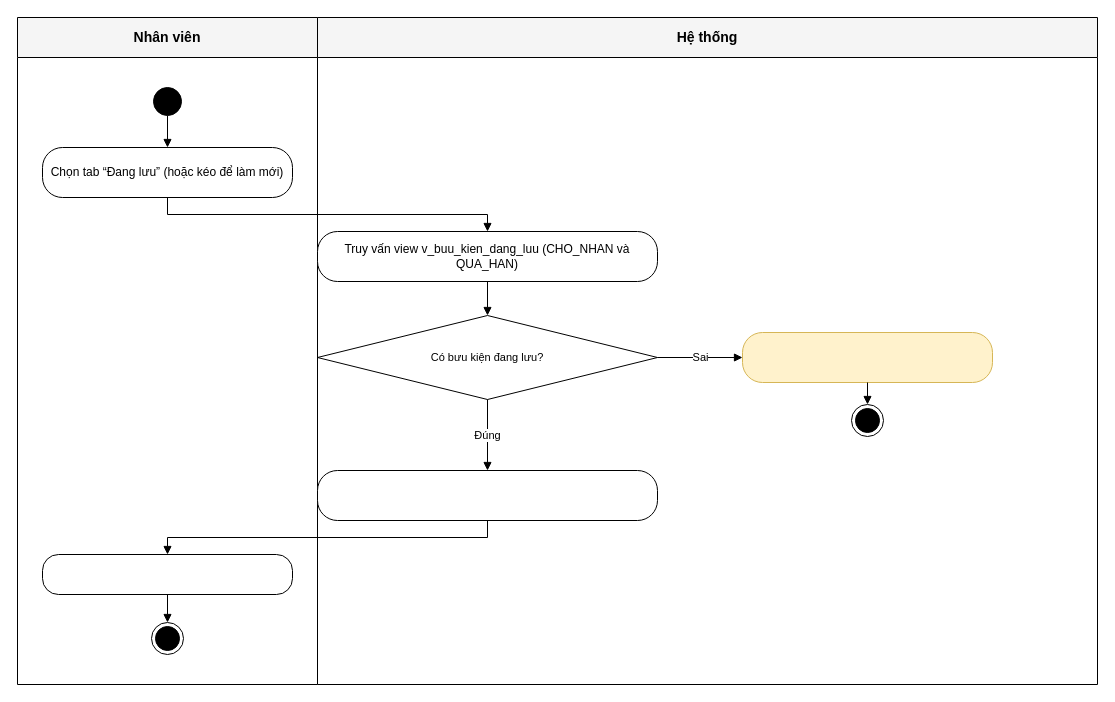
The diagram is 1115 pixels wide and 702 high, and some of its shapes have lost their labels. Here are the shapes that lost their labels. From the top down, the centre of each, then its label:
point 867,357: Hiển thị danh sách rỗng kèm thông báo chưa có bưu kiện
point 487,495: Hiển thị danh sách, không có thông tin cư dân và mã nhận
point 167,574: Xem danh sách bưu kiện
